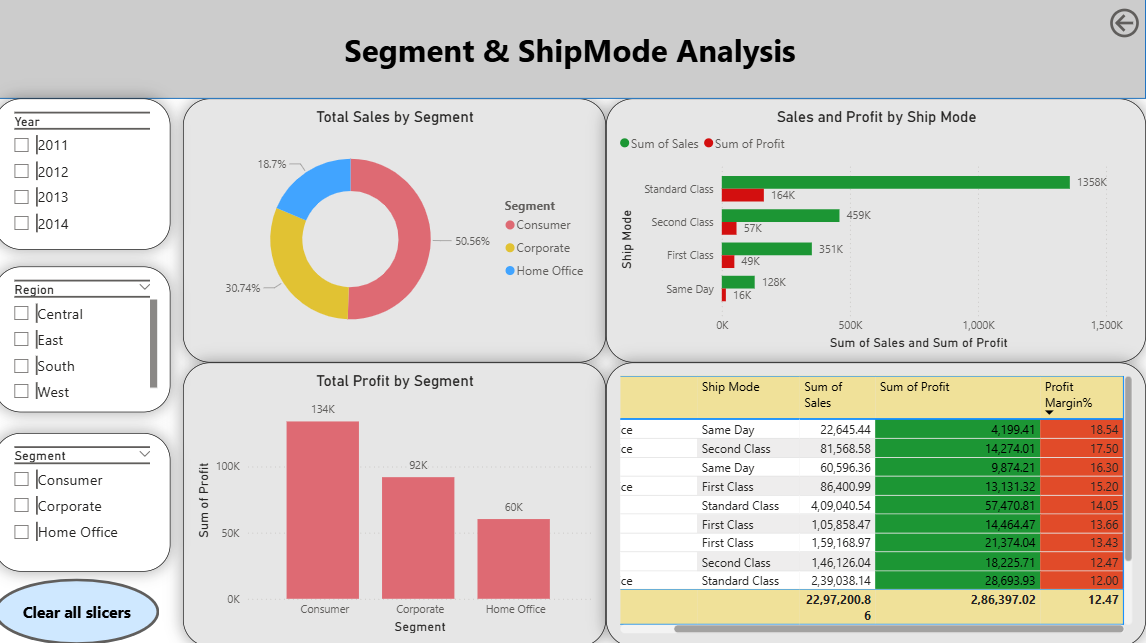

Layout of this report page (visuals, bound fields, positions):
{"tool":"powerbi","page":{"name":"Segment & ShipMode Analysis","canvas":[1280,720],"ordinal":3},"visuals":[{"type":"donutChart","title":"Total Sales by Segment","fields":{"Category":["Orders.Segment"],"Y":["Sum(Orders.Sales)"]},"box":[209.5,111.1,469.8,293.7],"z":0},{"type":"clusteredColumnChart","title":"Total Profit by Segment","fields":{"Category":["Orders.Segment"],"Y":["Sum(Orders.Profit)"]},"box":[209.5,404.8,469.8,315.9],"z":1000},{"type":"clusteredBarChart","title":" Sales and Profit by Ship Mode","fields":{"Y":["Sum(Orders.Sales)","Sum(Orders.Profit)"],"Category":["Orders.Ship Mode"]},"box":[679.4,111.1,600,293.7],"z":2000},{"type":"tableEx","fields":{"Values":["Orders.Segment","Orders.Ship Mode","Sum(Orders.Sales)","Sum(Orders.Profit)","Orders.Profit Margin%"]},"box":[679.4,404.8,600,315.9],"z":3000},{"type":"shape","box":[0,0,1280,112],"z":4000},{"type":"actionButton","box":[1235.7,6.3,43.8,42.2],"z":5000},{"type":"slicer","fields":{"Values":["Orders.Segment"]},"box":[0,484,196,154],"z":6000},{"type":"slicer","fields":{"Values":["Orders.Region"]},"box":[0,298,196,162],"z":7000},{"type":"slicer","fields":{"Values":["Orders.Order Date.Variation.Date Hierarchy.Year"]},"box":[0,112,196,168],"z":8000},{"type":"actionButton","box":[0,645.4,183.6,73.8],"z":9000}]}

Visuals, with their boxes in screenshot pixels (x1, y1, x2, y2), scaled from the page's 1280x720 canvas onto the 1146x643 screenshot:
"Total Sales by Segment" donutChart: (188, 99, 608, 362)
"Total Profit by Segment" clusteredColumnChart: (188, 362, 608, 642)
" Sales and Profit by Ship Mode" clusteredBarChart: (608, 99, 1145, 362)
tableEx - Orders.Segment x Orders.Ship Mode: (608, 362, 1145, 642)
shape: (0, 0, 1145, 100)
actionButton: (1106, 6, 1145, 43)
slicer - Orders.Segment: (0, 432, 175, 570)
slicer - Orders.Region: (0, 266, 175, 411)
slicer - Orders.Order Date.Variation.Date Hierarchy.Year: (0, 100, 175, 250)
actionButton: (0, 576, 164, 642)
